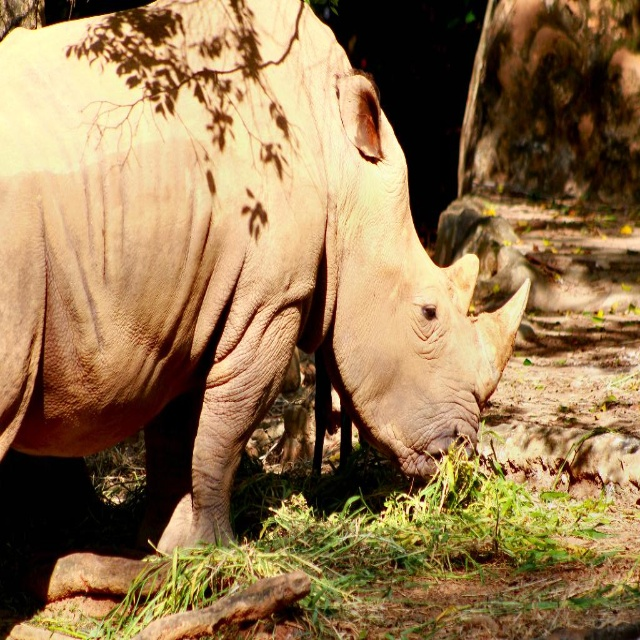Rhinoceros: (0, 0, 531, 568)
